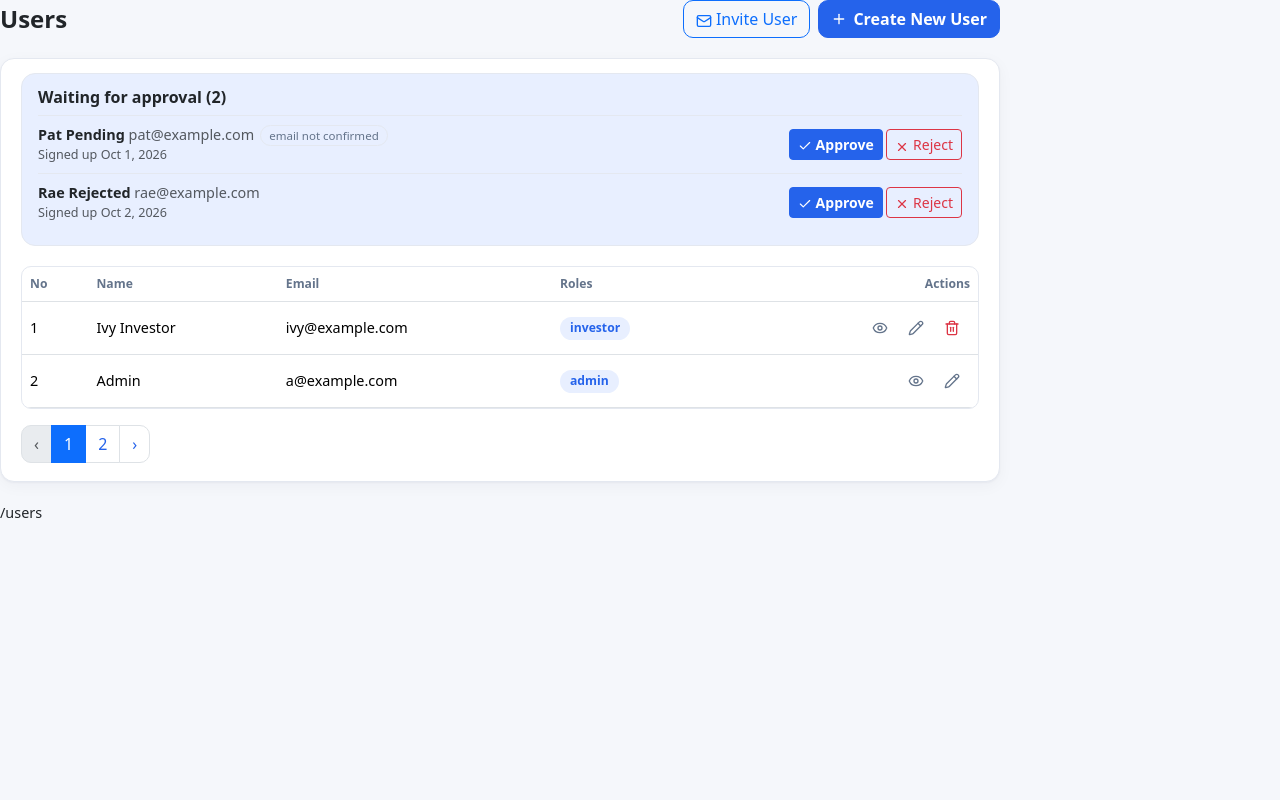
Scenario: Users › approves and rejects sign-ups waiting for a role
Expected: the heading "Waiting for approval (2)" is shown, [38,86,226,108]
Expected: the text "email not confirmed" is shown, [260,125,388,146]
Click the button with aria-label "Approve Pat Pending": {"x": 836, "y": 145} [789,129,883,160]
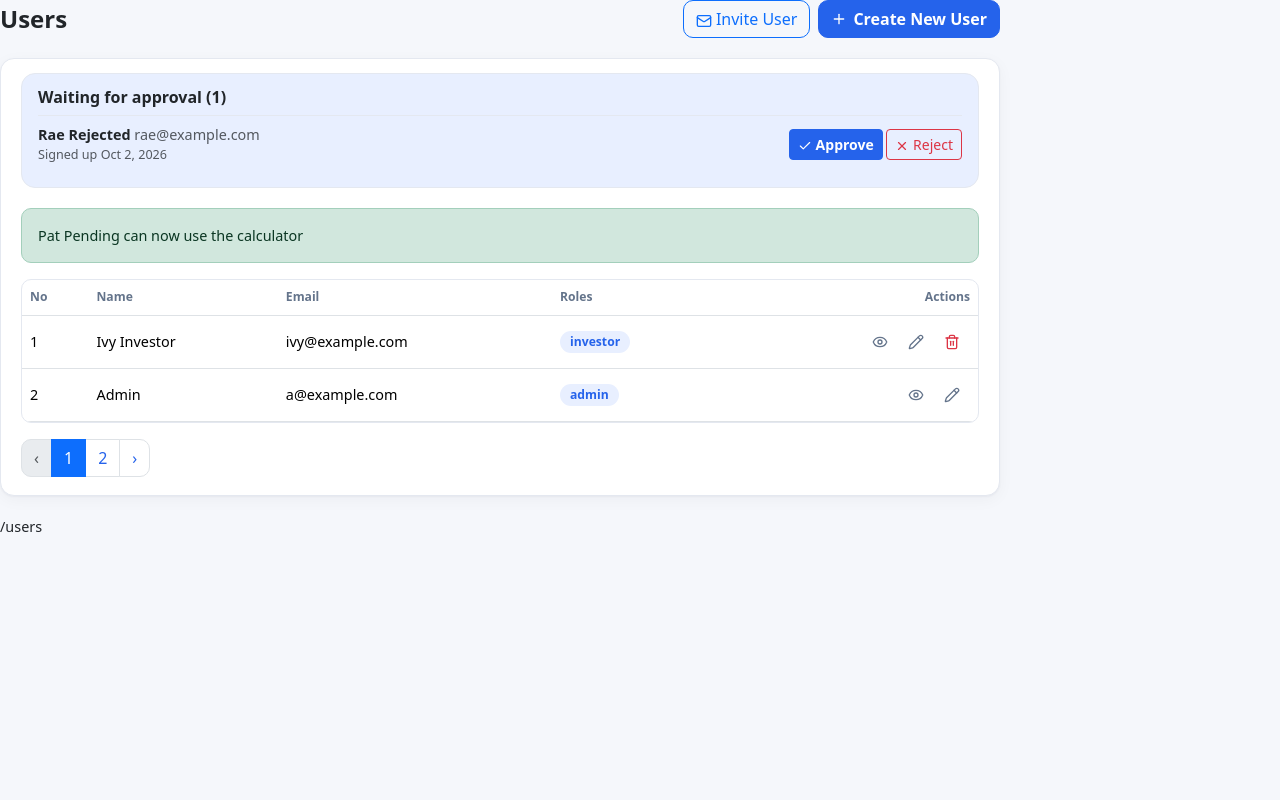
Result: the text "Pat Pending can now use the calculator" is shown at [21,208,979,263]
Result: the heading "Waiting for approval (1)" is shown at [38,86,226,108]
Click the button with aria-label "Reject Rae Rejected": {"x": 924, "y": 144} [886,129,962,160]
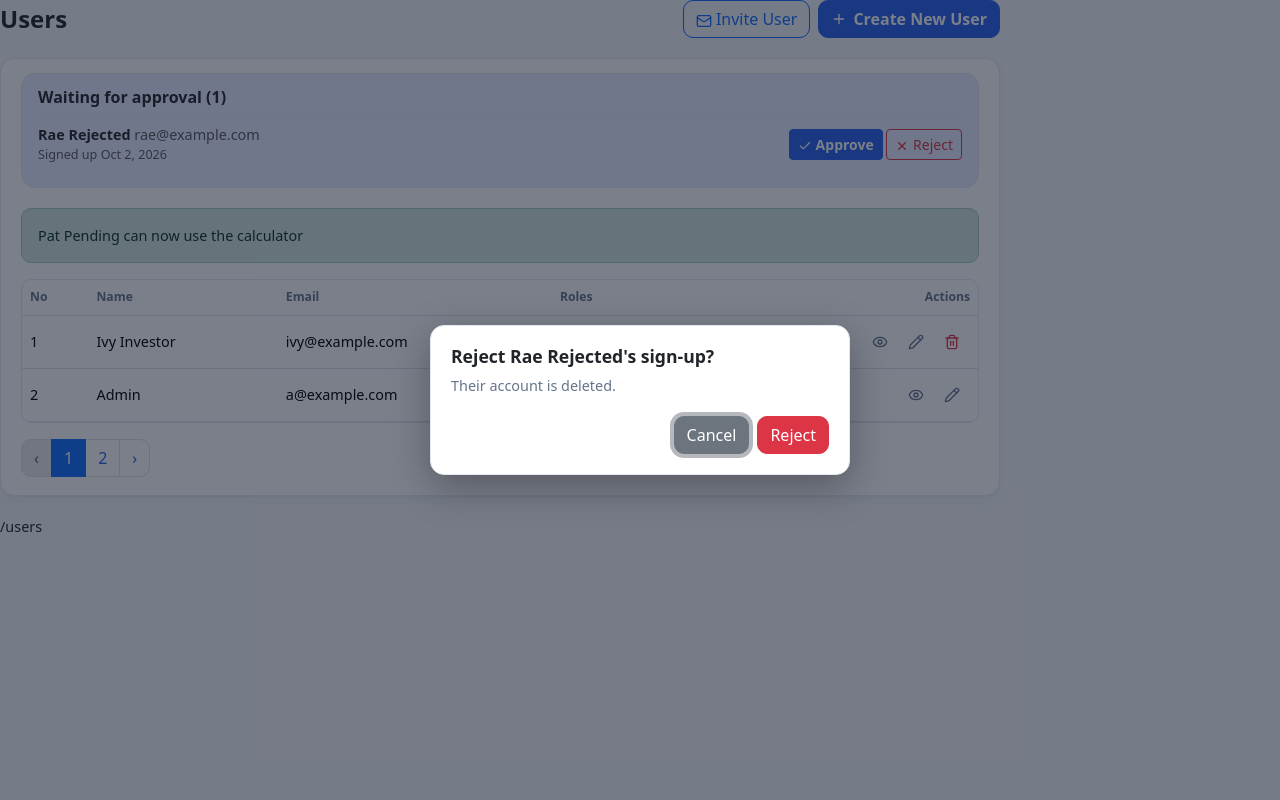
Click the button "Reject": {"x": 793, "y": 435} [757,416,829,454]
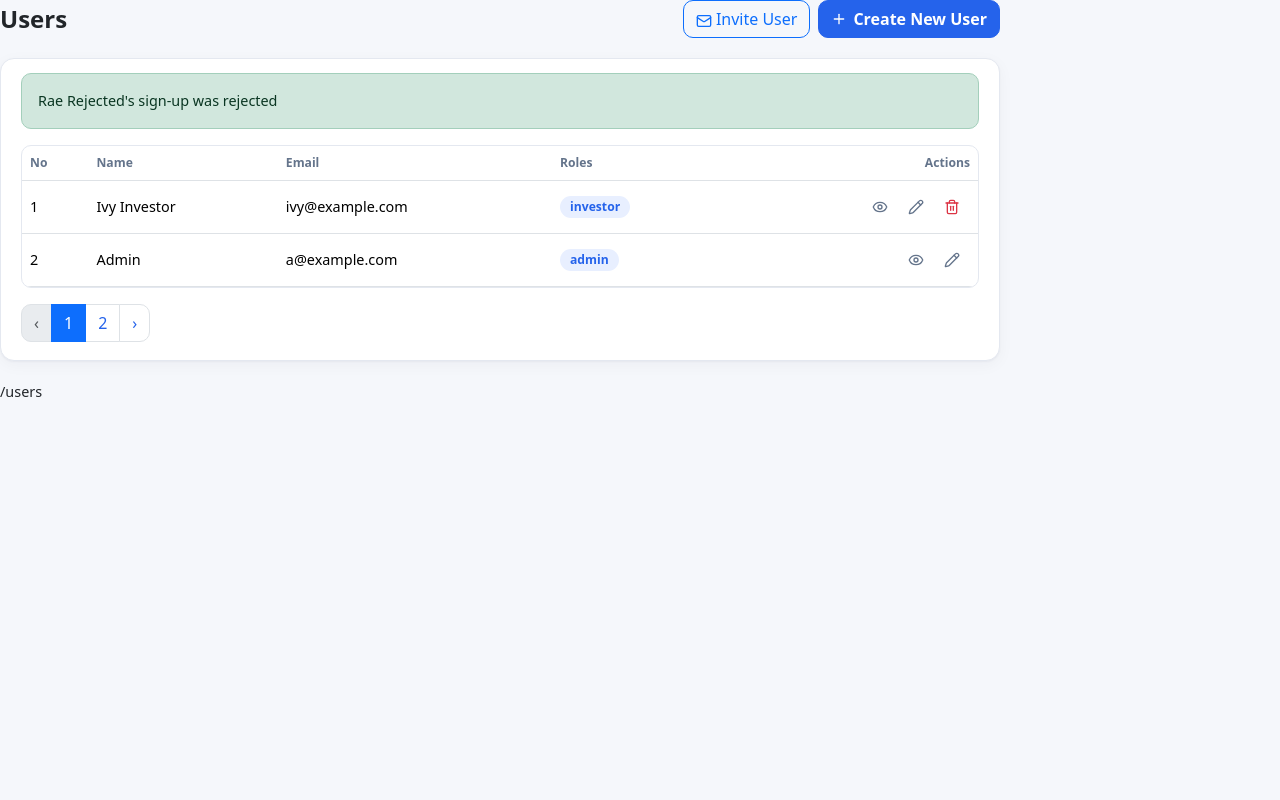
Result: the text "Rae Rejected's sign-up was rejected" is shown at [21,73,979,129]
Result: the heading "Waiting for approval" is gone
